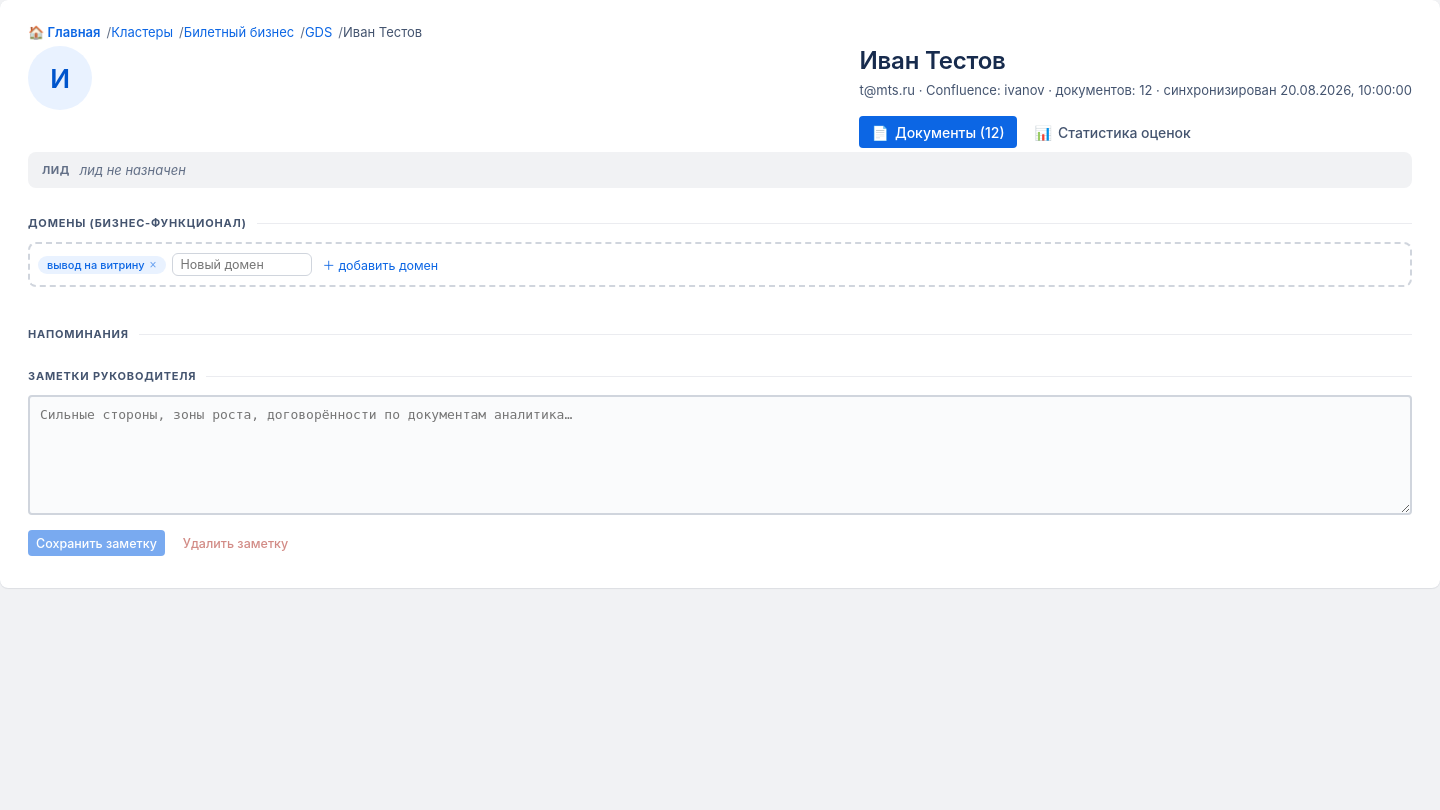
Scenario: AnalystProfilePage › adds a domain by pressing Enter and auto-saves it
The image size is (1440, 810).
Expected: the text "вывод на витрину" is shown, x1=47 y1=258 x2=145 y2=272
Type "букинг" into the field labelled "Новый домен". click: (242, 264)
box: x1=172 y1=253 x2=312 y2=276
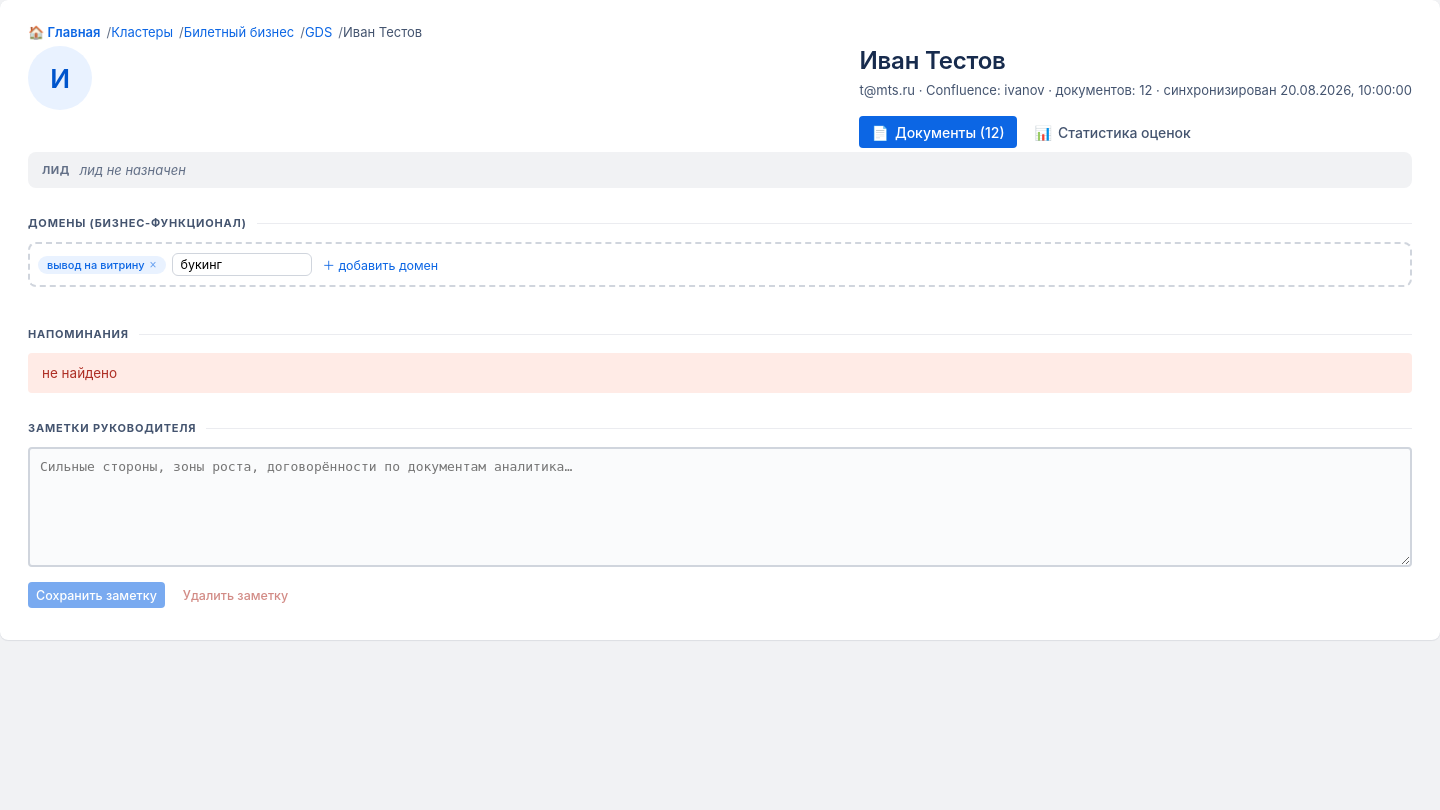
// Enter вместо кнопки «＋ добавить домен»
Press Enter in the field named "Новый домен", box x1=172 y1=253 x2=312 y2=276
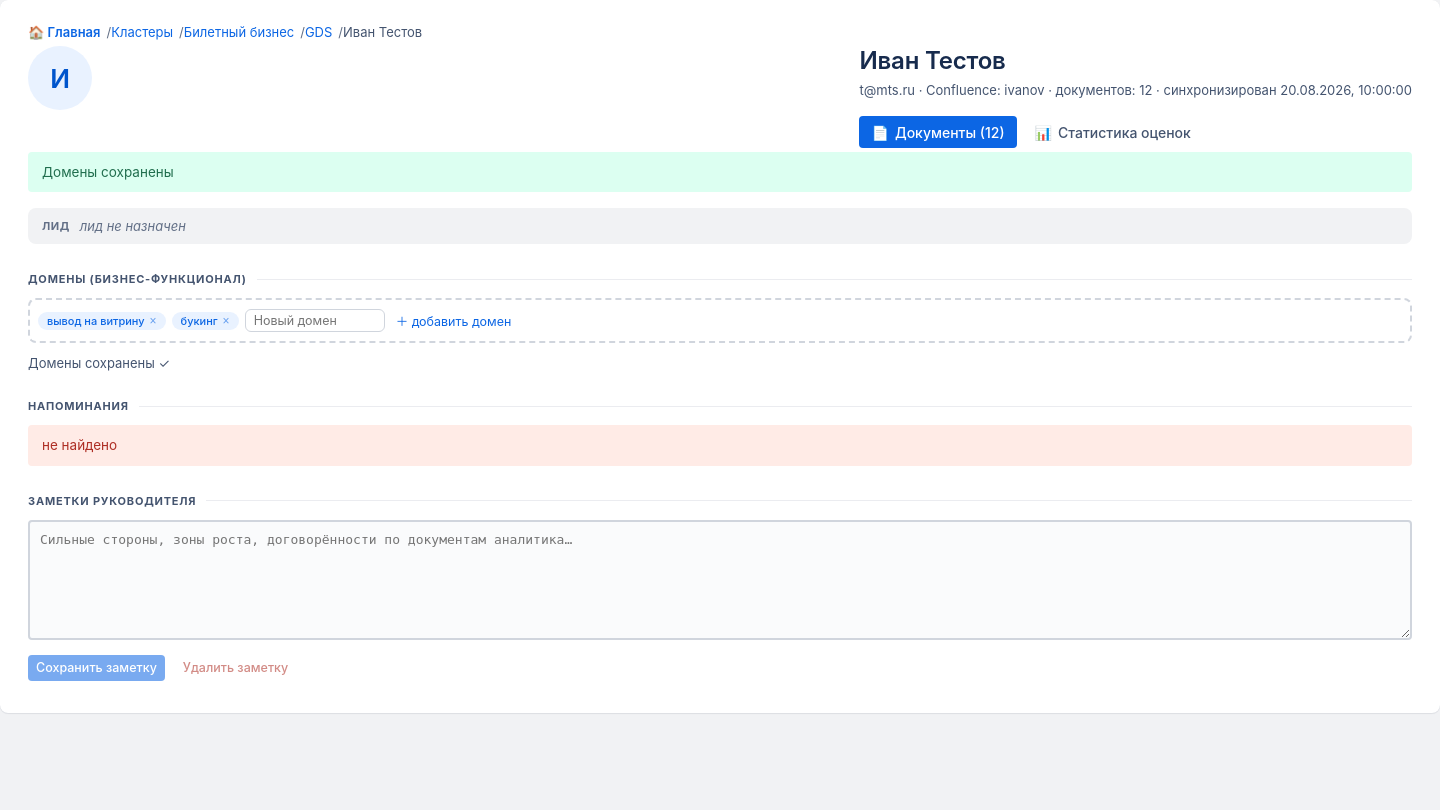
Result: the text "букинг" is shown at x1=181 y1=314 x2=218 y2=328
